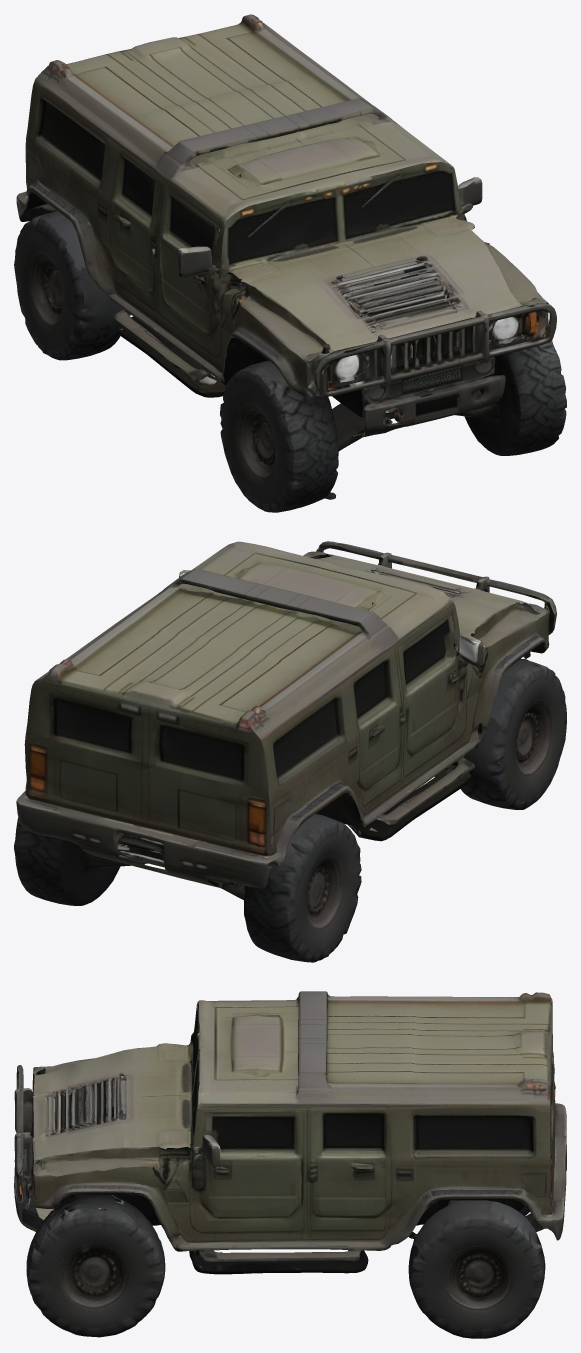
The model's file is vehicle_humvee.glb.
3 renders of one model, top to bottom at view 1: azimuth 30°, elevation 25°; view 2: azimuth 150°, elevation 25°; view 3: azimuth 270°, elevation 25°, orthographic. The views are drawn at different scales.
Parts seen in each view (by area): view 1: MilitaryVehicle; view 2: MilitaryVehicle; view 3: MilitaryVehicle.
Part boxes in pixels (x1,y1,x2,y2): MilitaryVehicle: (14,14,566,512); MilitaryVehicle: (14,541,566,962); MilitaryVehicle: (14,991,566,1338).
Size of the model in its own units: 2.75 by 2.32 by 4.7.
Materials: 1 (1 with a texture image).
